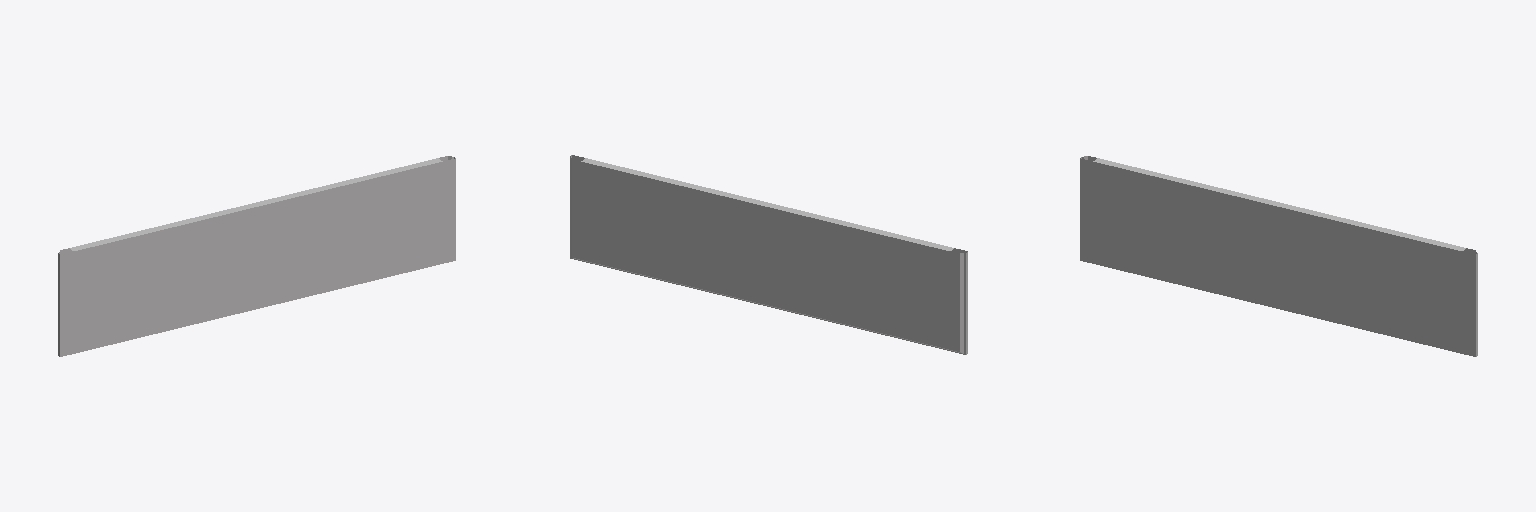
3 views of the same model, side by side, from view 1: azimuth 30°, elevation 25°; view 2: azimuth 150°, elevation 25°; view 3: azimuth 330°, elevation 25° (orthographic).
Parts seen in each view (by area): view 1: Line[number redacted]; view 2: Line[number redacted]; view 3: Line[number redacted].
Boxes of the visible parts, <box> form: Line[number redacted]: <box>58,156,455,356</box>; Line[number redacted]: <box>570,155,967,354</box>; Line[number redacted]: <box>1080,156,1477,356</box>.
Bounding box in the file's own units: 97.04 × 23.98 × 2.